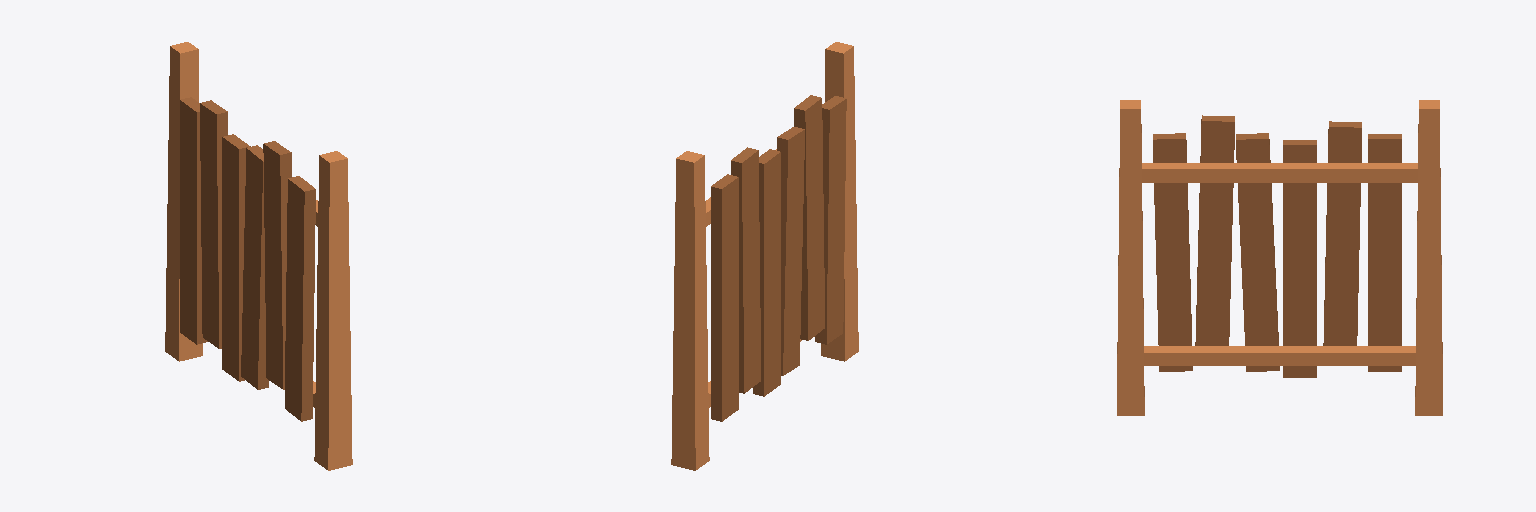
Rendered from fenceFortified.obj.
The picture shows the model from 3 angles: view 1: azimuth 30°, elevation 25°; view 2: azimuth 150°, elevation 25°; view 3: azimuth 270°, elevation 25°; orthographic projection.
Parts seen in each view (by area): view 1: fenceFortified; view 2: fenceFortified; view 3: fenceFortified.
Boxes of the visible parts, box(x1,y1,x2,y2) form: fenceFortified: box(165, 42, 352, 470); fenceFortified: box(671, 42, 858, 470); fenceFortified: box(1117, 100, 1442, 415).
Bounding box in the file's own units: 0.2121 × 2.07 × 2.